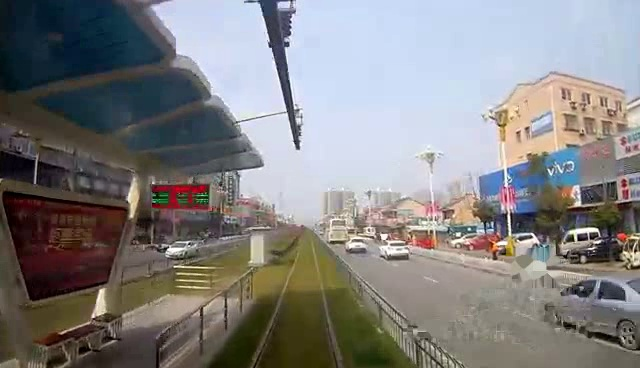car: (538, 277, 640, 347), (162, 239, 208, 260)
